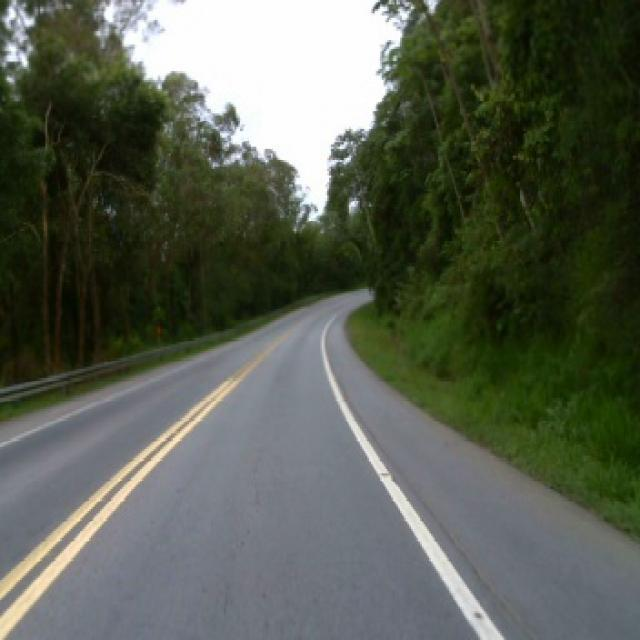Poth-hole: (378, 468, 389, 476)
